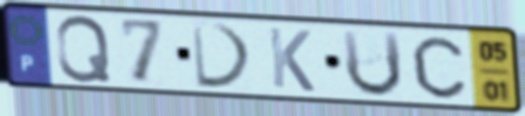7: (118, 17, 167, 87)
C: (409, 34, 469, 101)
D: (188, 19, 257, 91)
K: (265, 24, 318, 95)
Q: (53, 13, 114, 85)
U: (338, 27, 406, 100)
